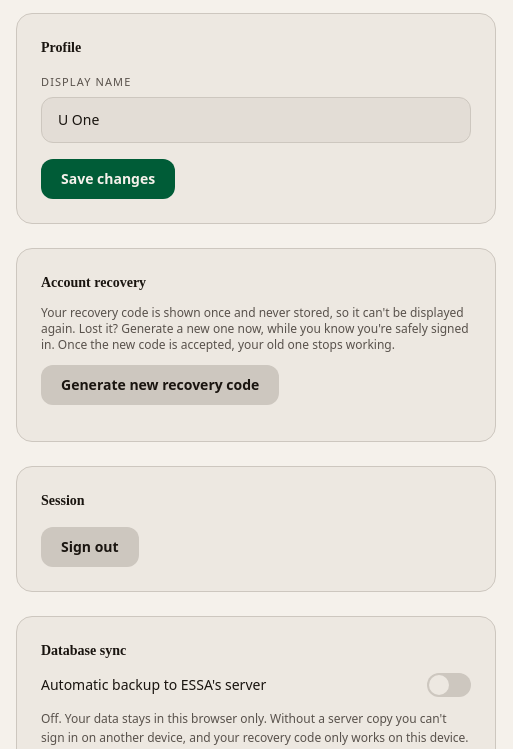
Scenario: regenerating from Profile › a refusal shows why, and no recovery code is displayed anywhere
(page scrolled)
Click the button "Generate new recovery code" at (160, 384), box x1=41 y1=364 x2=279 y2=404
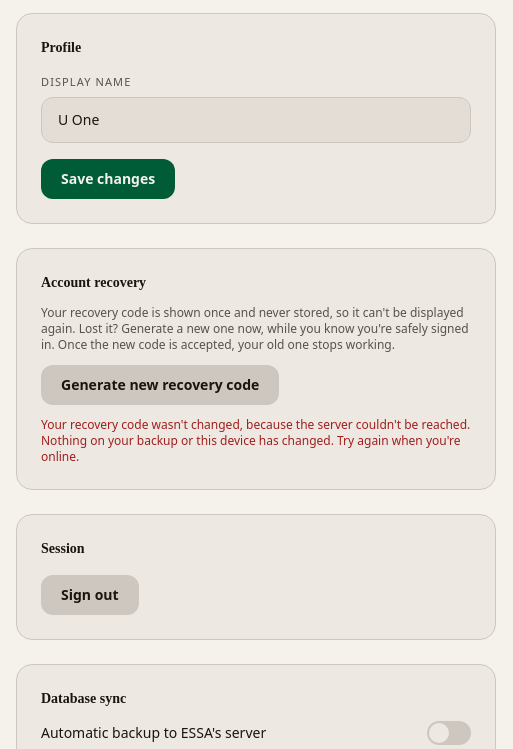
Now the text "Your recovery code wasn't changed, because the server couldn't be reached. Nothing on your backup or this device has cha" is shown, box x1=41 y1=416 x2=470 y2=464
